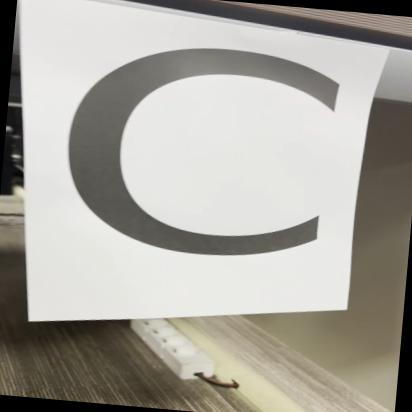seat: (6, 0, 371, 319)
